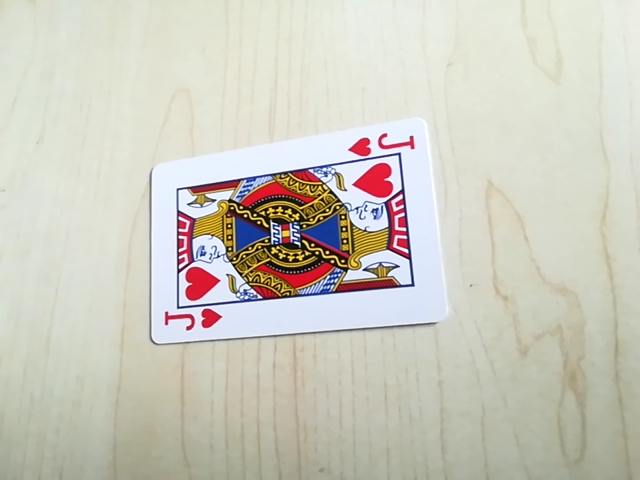hx j: (158, 305, 224, 339), (347, 128, 418, 159)
